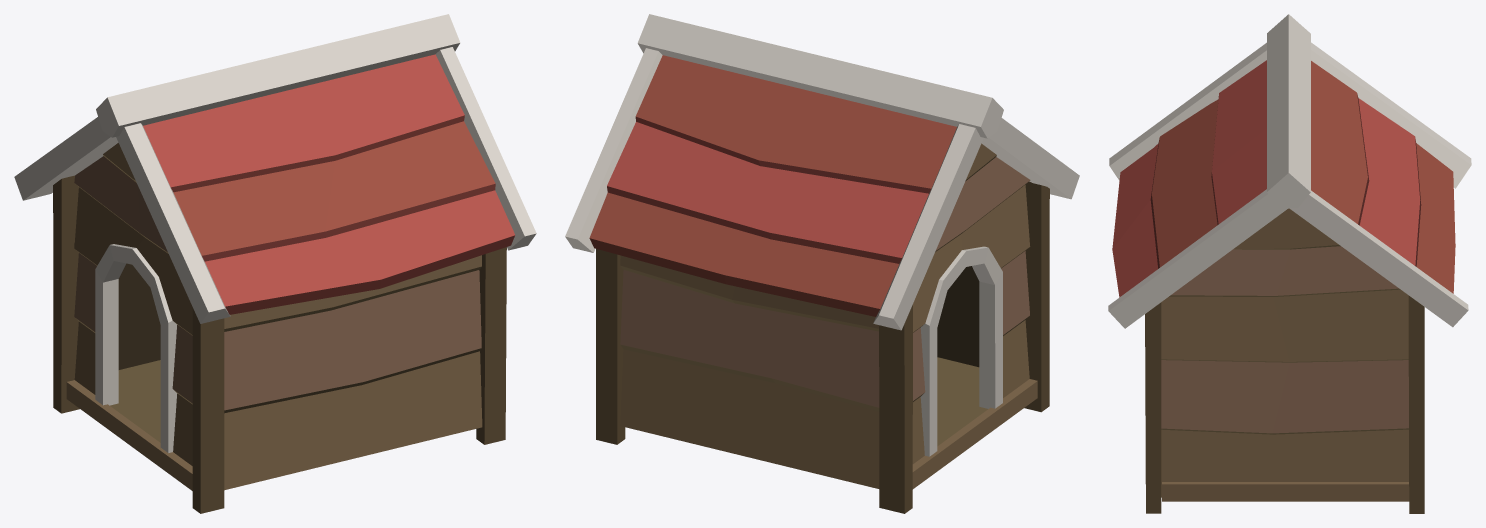
File: Doghouse.fbx
3 views of the same model, side by side, from view 1: azimuth 30°, elevation 25°; view 2: azimuth 150°, elevation 25°; view 3: azimuth 270°, elevation 25° (orthographic). The views are drawn at different scales.
Visible parts, largest first — view 1: Doghouse; view 2: Doghouse; view 3: Doghouse.
Part boxes in pixels (box(x1,y1,x2,y2)): Doghouse: box(14, 14, 536, 513); Doghouse: box(565, 14, 1079, 513); Doghouse: box(1108, 14, 1471, 513).
Bounding box in the file's own units: 123 × 126 × 119.
Materials: 1 (1 with a texture image).
